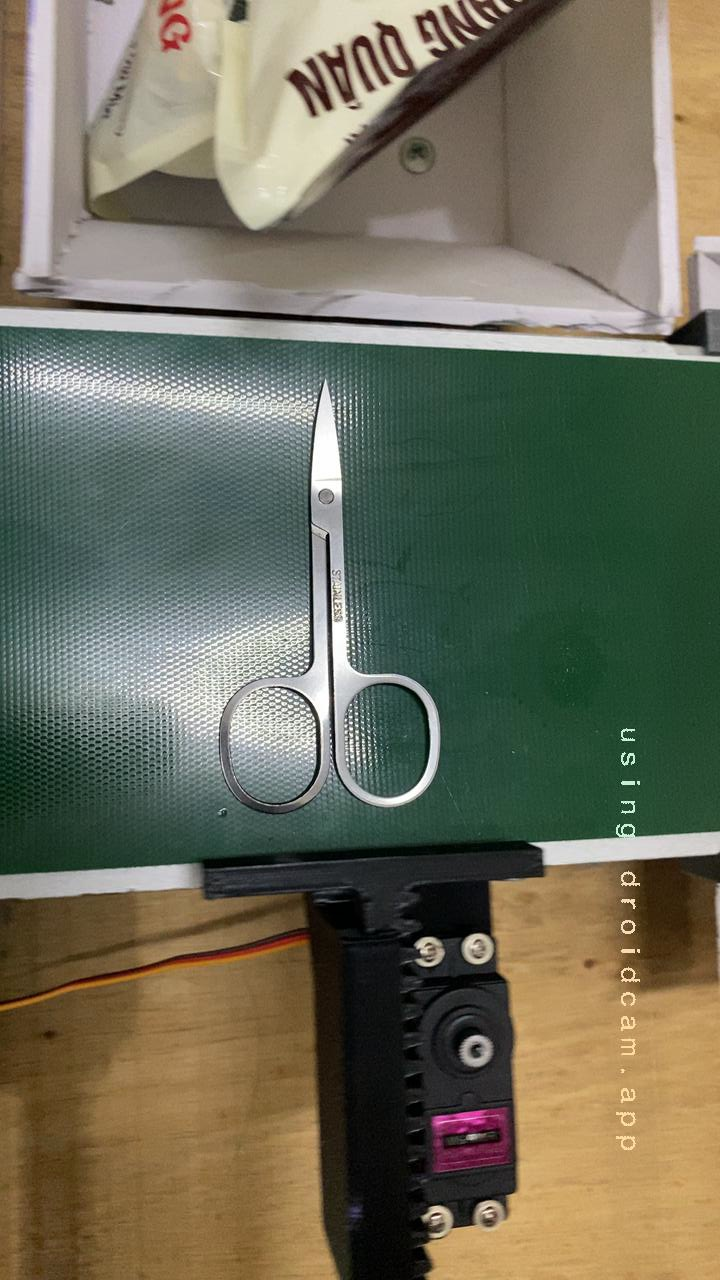scissor: (201, 392, 460, 824)
